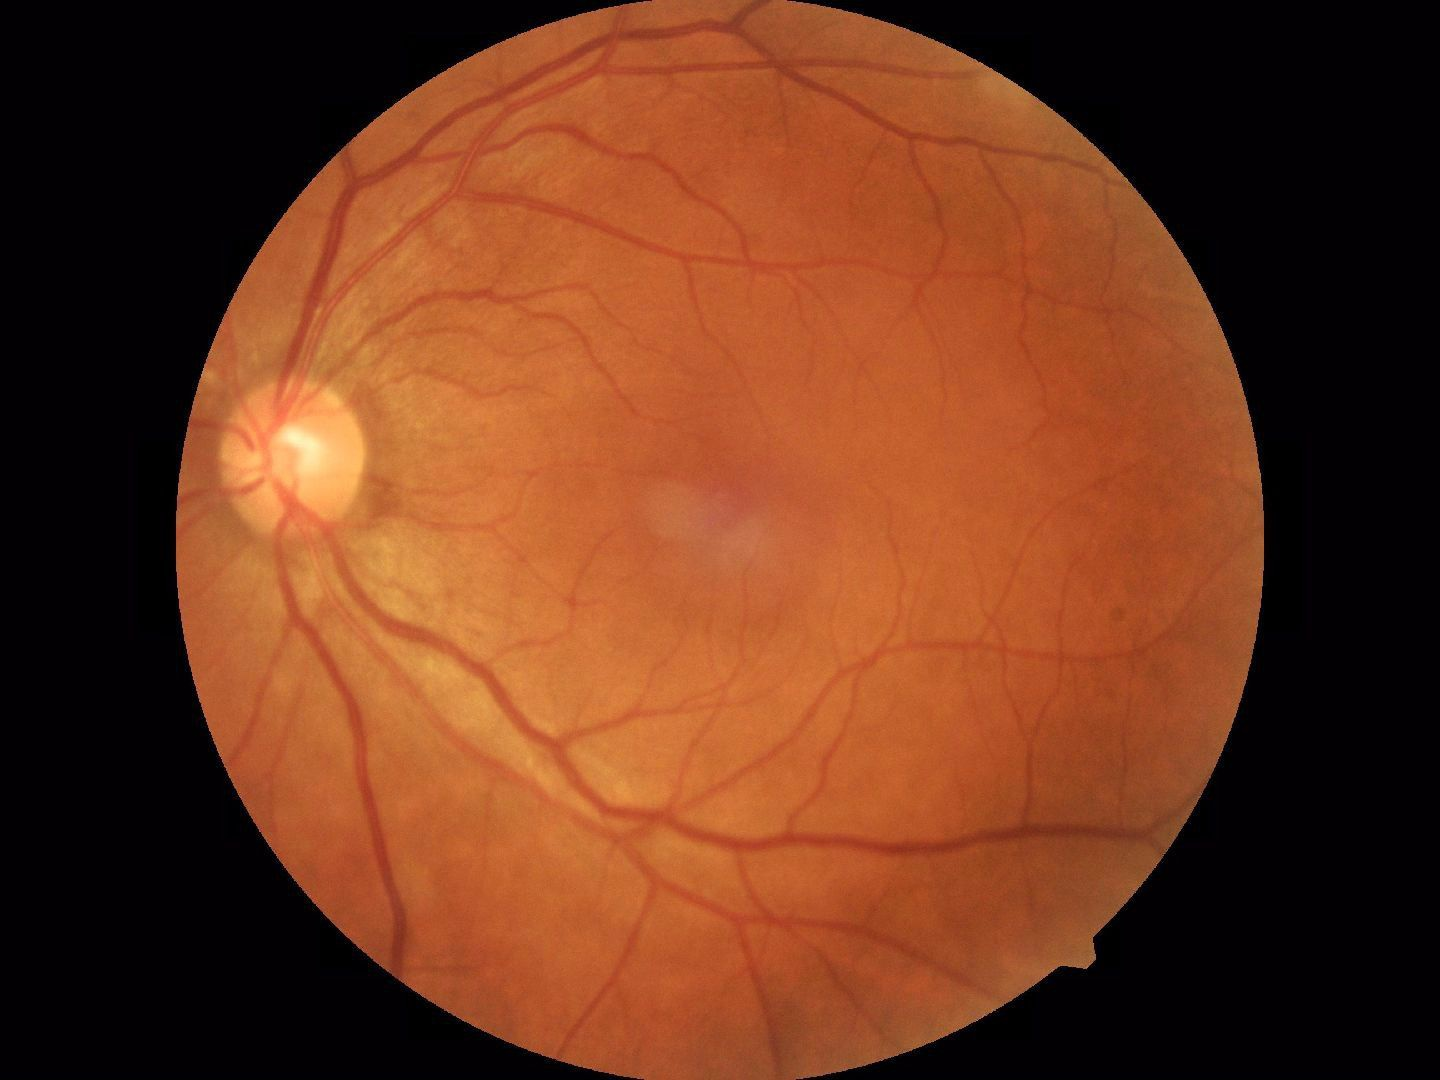Optic-Disc: (219, 371, 366, 545)
Venules: (460, 630, 680, 843), (328, 161, 630, 267)
